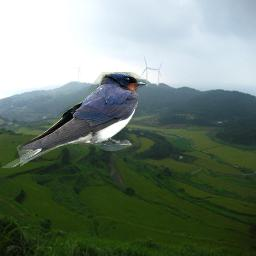Swallow: (2, 72, 147, 173)
